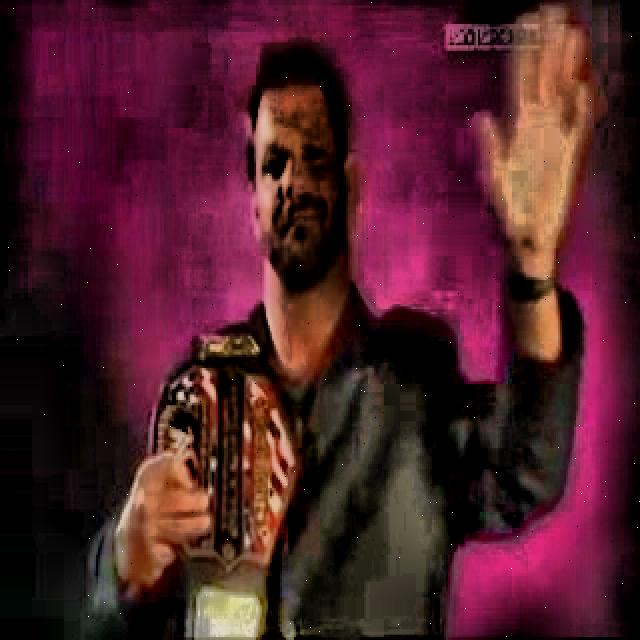L: (88, 29, 586, 637)
